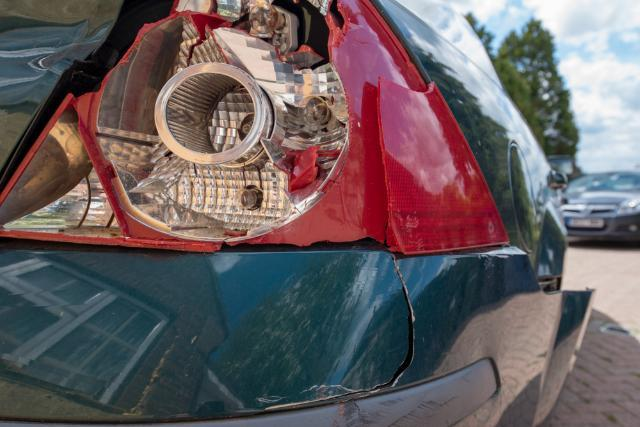crack: (310, 256, 414, 403)
lamp broken: (0, 0, 512, 256)
scratch: (328, 398, 454, 427)
